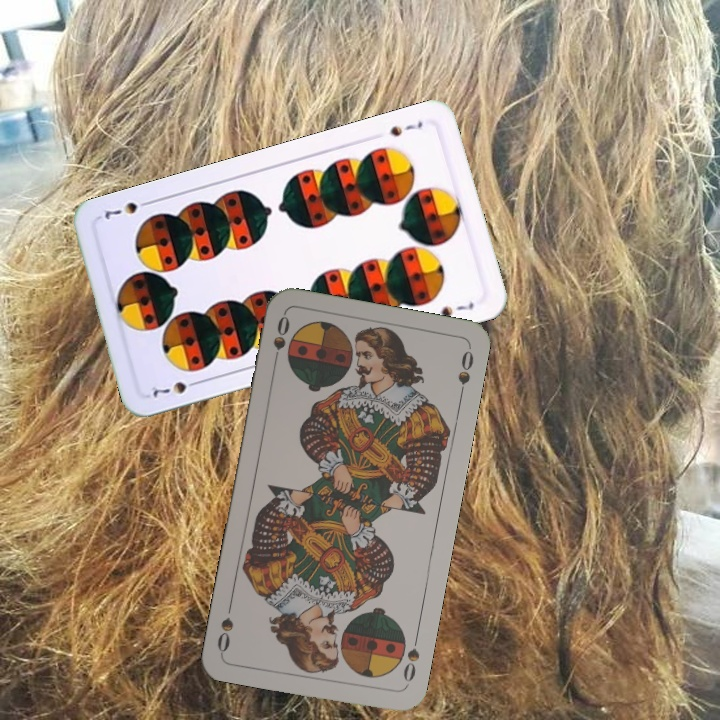S7: (147, 376, 204, 400), (386, 117, 425, 139)
SO: (269, 312, 293, 370), (399, 630, 422, 689)
